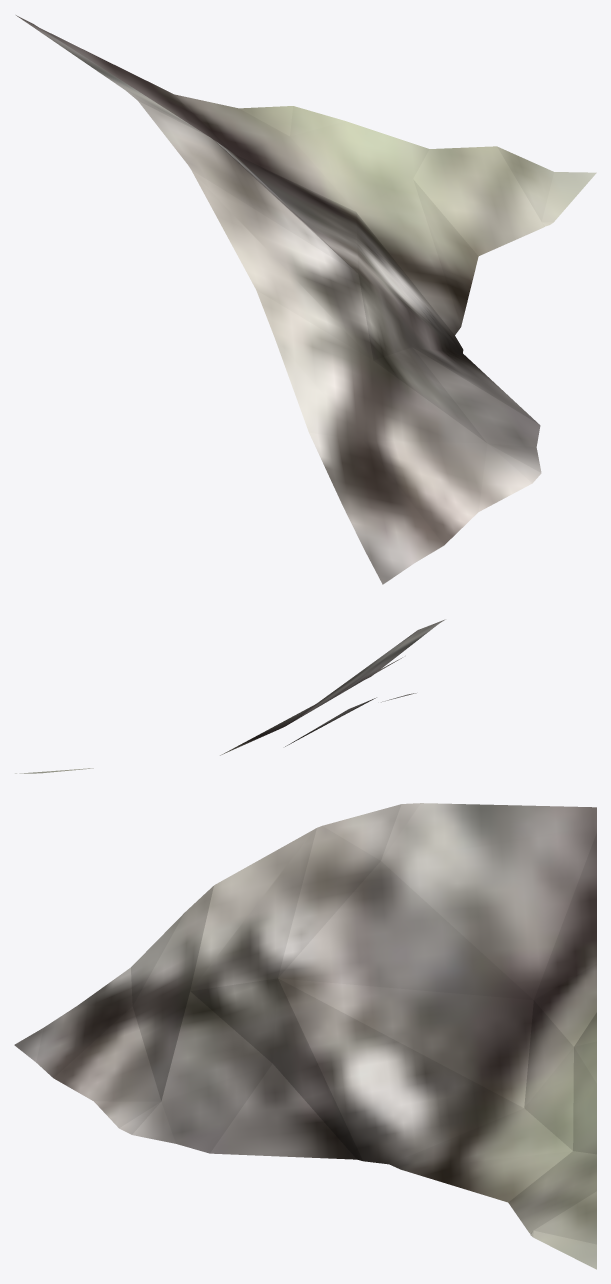
The picture shows the model from 3 angles, top to bottom: view 1: azimuth 30°, elevation 25°; view 2: azimuth 150°, elevation 25°; view 3: azimuth 270°, elevation 25°; orthographic projection. The views are drawn at different scales.
Bounding box in the file's own units: 0.1802 × 0.0904 × 0.1974.
1 material, 1 textured.
